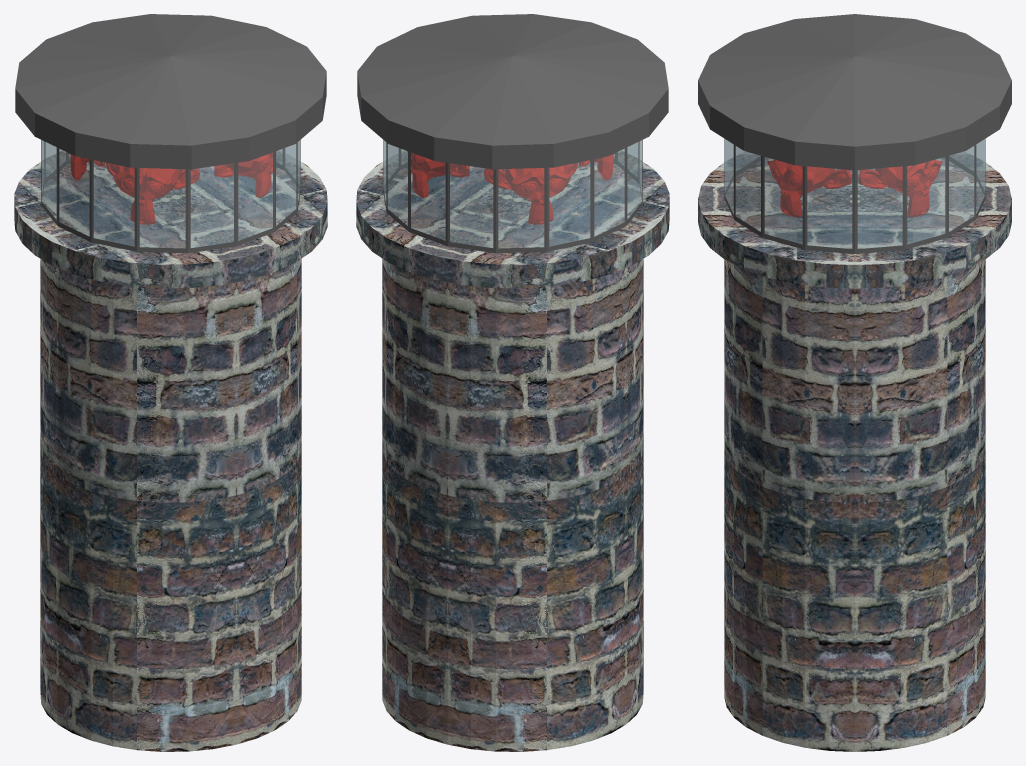
The model's file is turm.glb.
3 views of the same model, side by side, from view 1: azimuth 30°, elevation 25°; view 2: azimuth 150°, elevation 25°; view 3: azimuth 270°, elevation 25° (orthographic).
Visible parts, largest first — view 1: Circle, TurmHead, Mirrors, TurmApe; view 2: Circle, TurmHead, Mirrors, TurmApe; view 3: Circle, TurmHead, Mirrors, TurmApe.
Part boxes in pixels (x1=…): Circle: x1=14, y1=151, x2=327, y2=751; TurmHead: x1=15, y1=14, x2=326, y2=253; Mirrors: x1=42, y1=140, x2=300, y2=248; TurmApe: x1=68, y1=151, x2=276, y2=224; Circle: x1=356, y1=151, x2=669, y2=751; TurmHead: x1=357, y1=14, x2=668, y2=253; Mirrors: x1=383, y1=140, x2=641, y2=248; TurmApe: x1=407, y1=151, x2=615, y2=224; Circle: x1=698, y1=152, x2=1011, y2=751; TurmHead: x1=698, y1=14, x2=1011, y2=253; Mirrors: x1=724, y1=139, x2=985, y2=248; TurmApe: x1=767, y1=160, x2=942, y2=217.
Bounding box in the file's own units: 2.4 × 5.4 × 2.4.
Materials: 4 (1 with a texture image).
